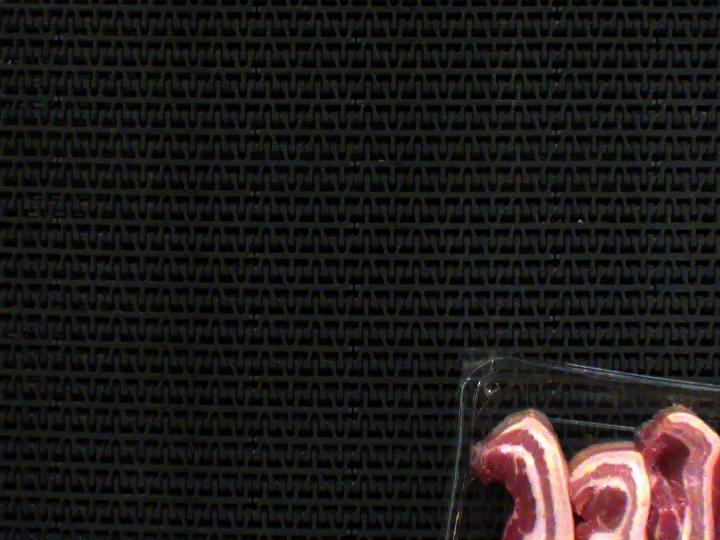packaging-error: (668, 388, 703, 420)
